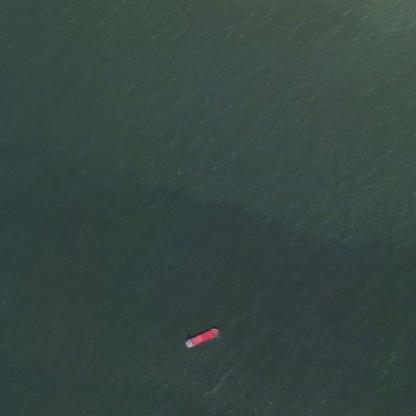ship: (177, 325, 224, 350)
